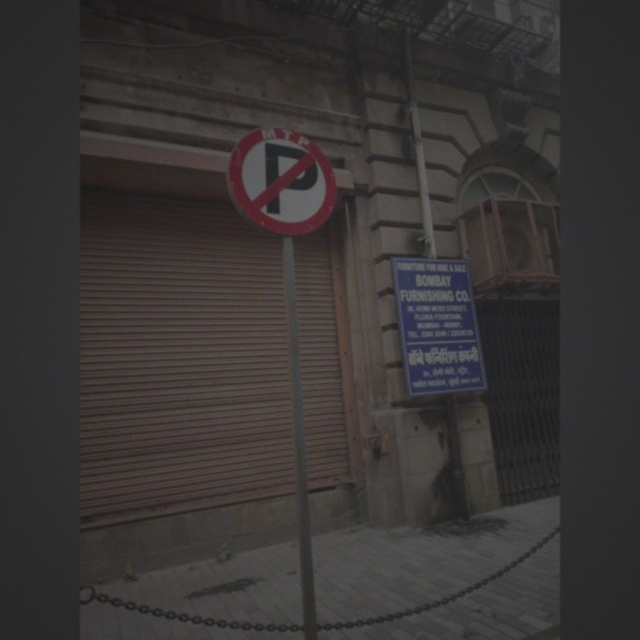No_Parking: (228, 121, 341, 238)
